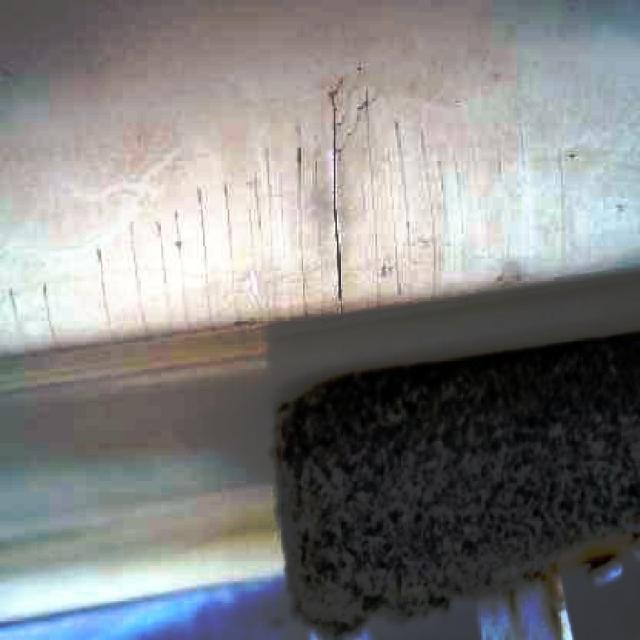crack: (331, 90, 346, 315)
